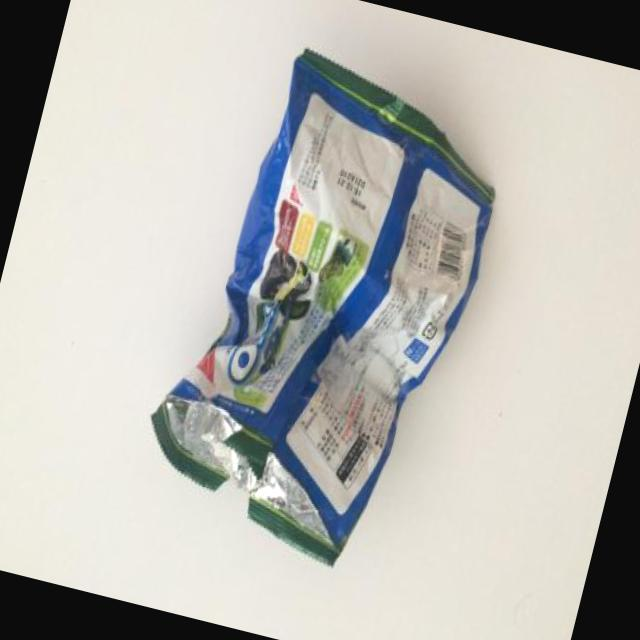Trash: (128, 32, 524, 588)
